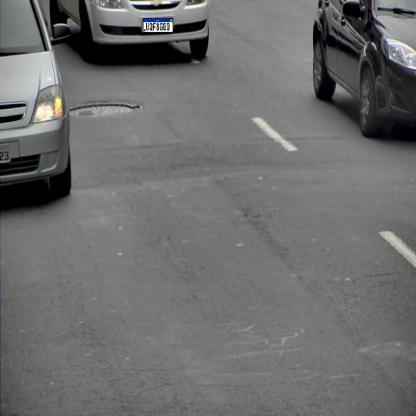PlacaM: (143, 18, 173, 33)
